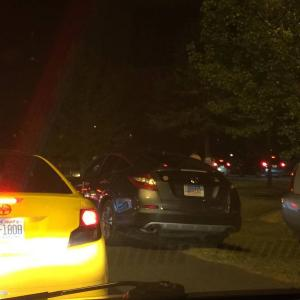Vehicle-registration-plate: (1, 220, 25, 242), (185, 185, 205, 197)
